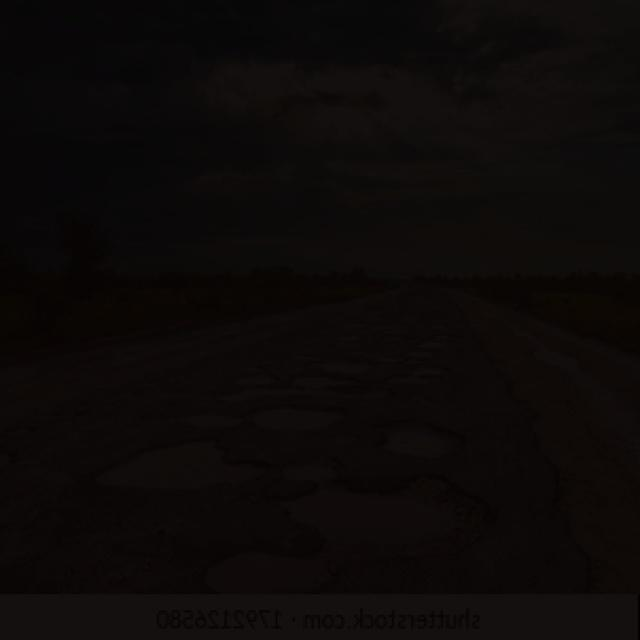Pothole: (286, 447, 488, 567), (88, 428, 278, 498), (242, 355, 452, 404), (206, 542, 330, 607), (179, 399, 340, 443), (367, 411, 464, 465), (339, 313, 456, 356)
